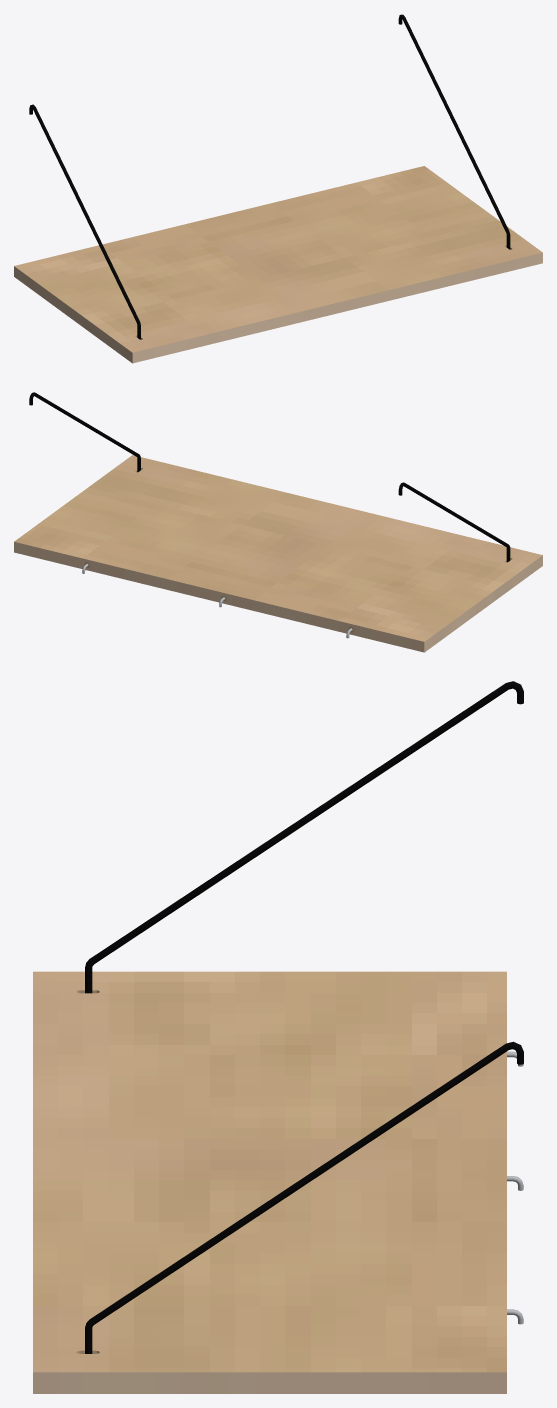
The model's file is board60x30_t3.glb.
3 views of the same model, one above another, from view 1: azimuth 30°, elevation 25°; view 2: azimuth 150°, elevation 25°; view 3: azimuth 270°, elevation 25° (orthographic). The views are drawn at different scales.
Parts seen in each view (by area): view 1: Geom3D (×4); view 2: Geom3D (×4); view 3: Geom3D (×4).
Part boxes in pixels (x1,y1,x2,y2): Geom3D (×4): (14,14,542,363); Geom3D (×4): (14,392,542,652); Geom3D (×4): (33,681,523,1393).
Bounding box in the file's own units: 0.6 × 0.2323 × 0.3109.
4 materials, 3 textured.
